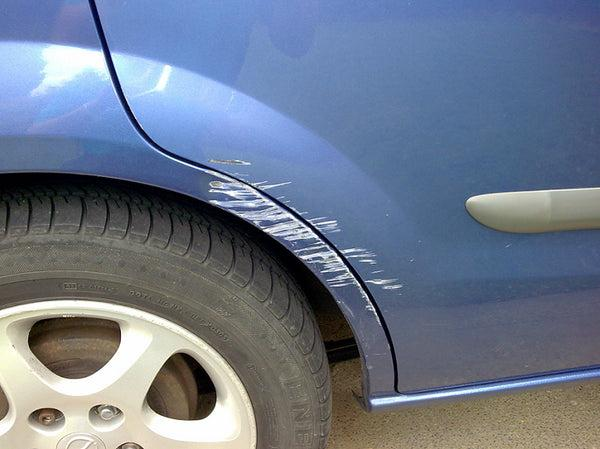scratch: (191, 150, 409, 332)
